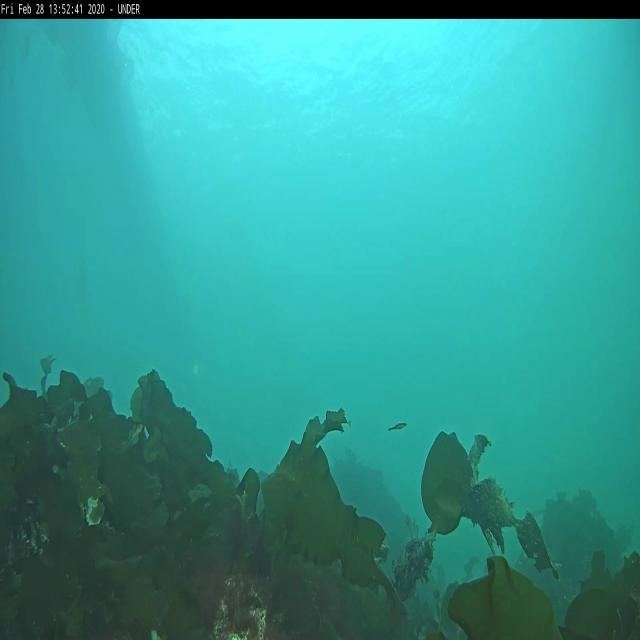fish: (387, 419, 408, 431)
